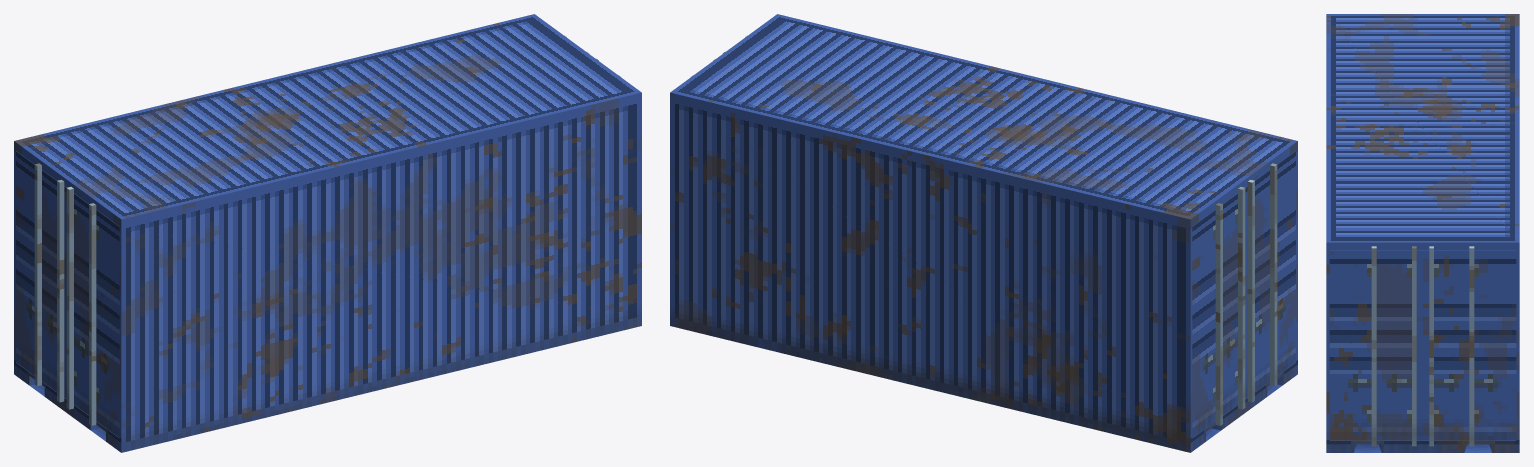
Rendered from ShippingContainer.gltf.
3 views of the same model, side by side, from view 1: azimuth 30°, elevation 25°; view 2: azimuth 150°, elevation 25°; view 3: azimuth 270°, elevation 25° (orthographic). The views are drawn at different scales.
Visible parts, largest first — view 1: Container, Door (×2); view 2: Container, Door (×2); view 3: Container, Door (×2).
Part boxes in pixels (x1,y1,x2,y2): Container: (14, 14, 641, 452); Door (×2): (16, 151, 119, 437); Container: (670, 14, 1297, 452); Door (×2): (1192, 151, 1295, 437); Container: (1326, 14, 1519, 452); Door (×2): (1329, 246, 1516, 446).
Size of the model in its own units: 7.12 by 3 by 2.5.
1 material, 1 textured.
